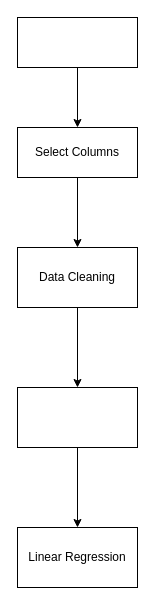
This 155x605 diagram has some shape labels left out. The shapes that lost their labels are listed below. From the top down, each one's box as (x1, y1, x2, y2) in pixels, then its label:
(16, 16, 138, 68): Raw Data
(16, 386, 138, 448): Feature Engineering
